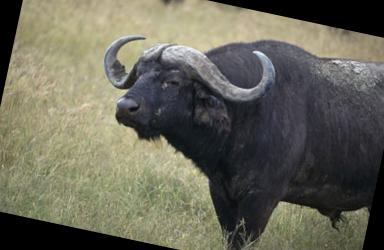Buffalo: (80, 0, 384, 235)
